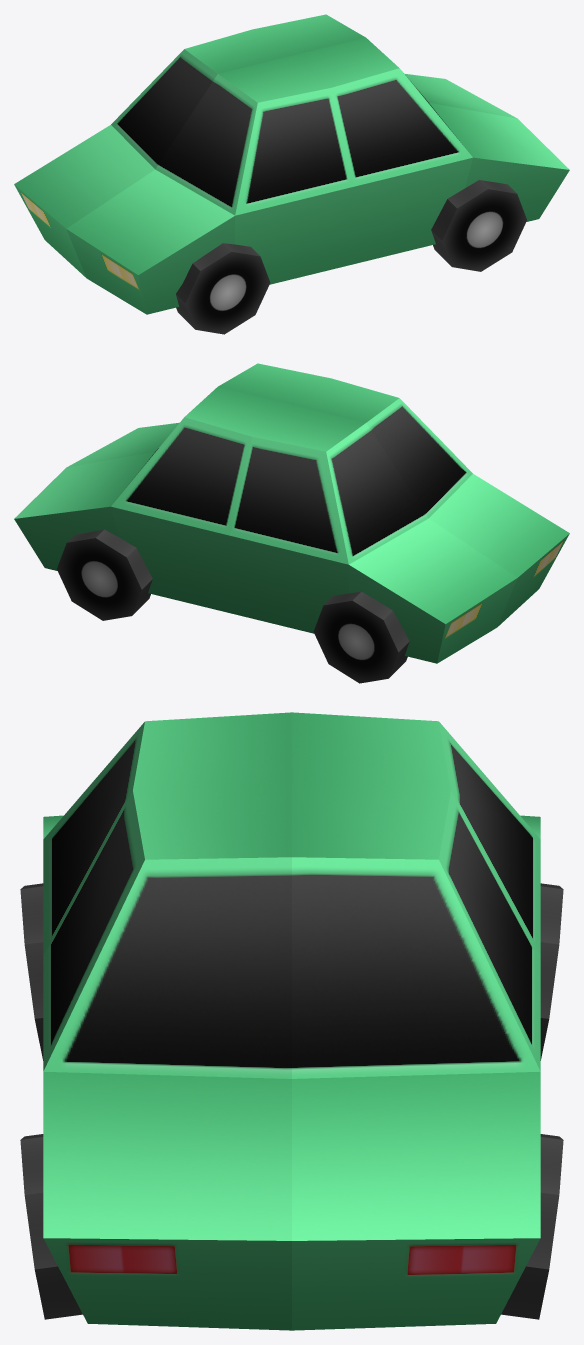
Rendered from car2.glb.
The picture shows the model from 3 angles, top to bottom: view 1: azimuth 30°, elevation 25°; view 2: azimuth 150°, elevation 25°; view 3: azimuth 270°, elevation 25°; orthographic projection. The views are drawn at different scales.
Parts seen in each view (by area): view 1: Car0; view 2: Car0; view 3: Car0.
Boxes of the visible parts, x1,y1,x2,y2 form: Car0: (14,14,569,334); Car0: (14,363,569,683); Car0: (20,712,563,1330).
Size of the model in its own units: 4.19 by 1.8 by 2.18.
1 material, 1 textured.
